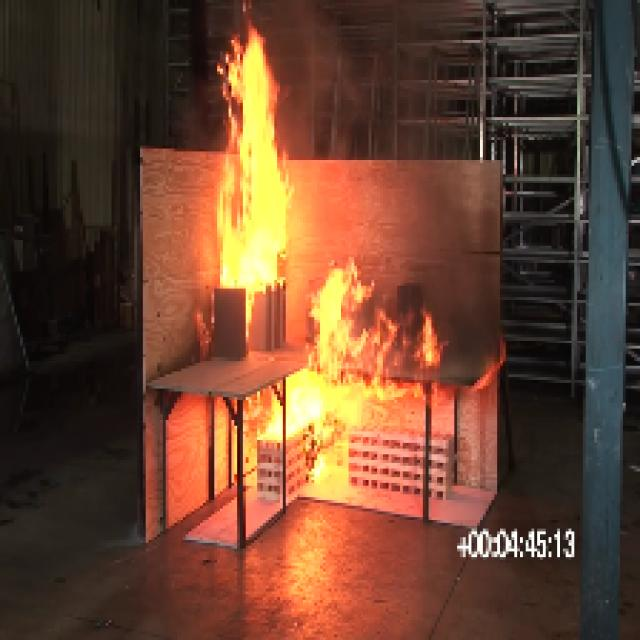fire: (212, 42, 292, 289), (262, 376, 375, 445), (310, 267, 372, 363)
